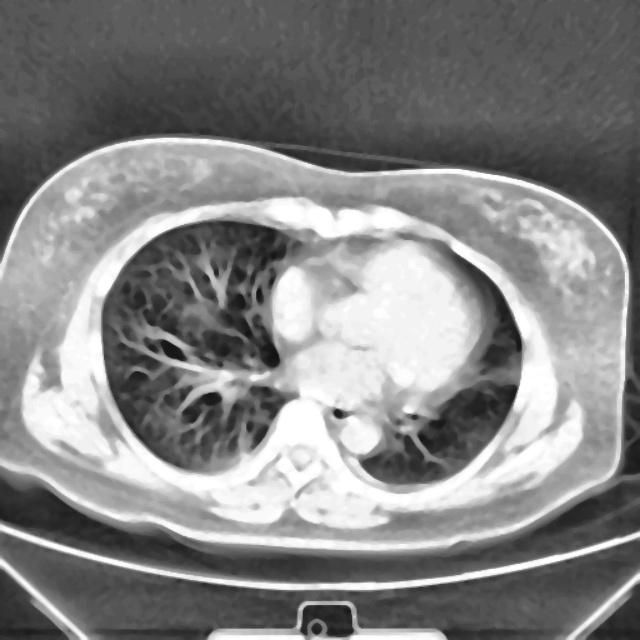covid: (1, 134, 631, 561)
